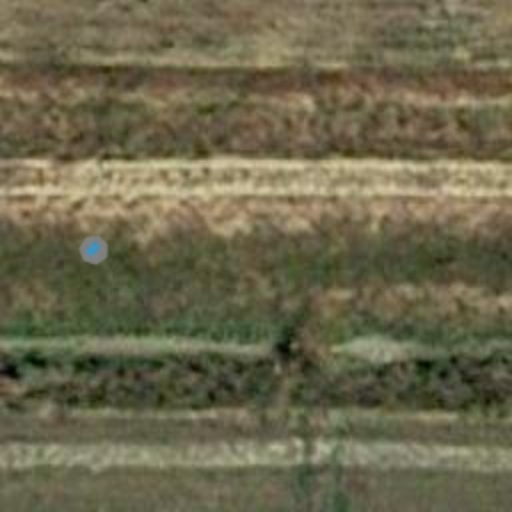heptagon: (72, 228, 116, 272)
